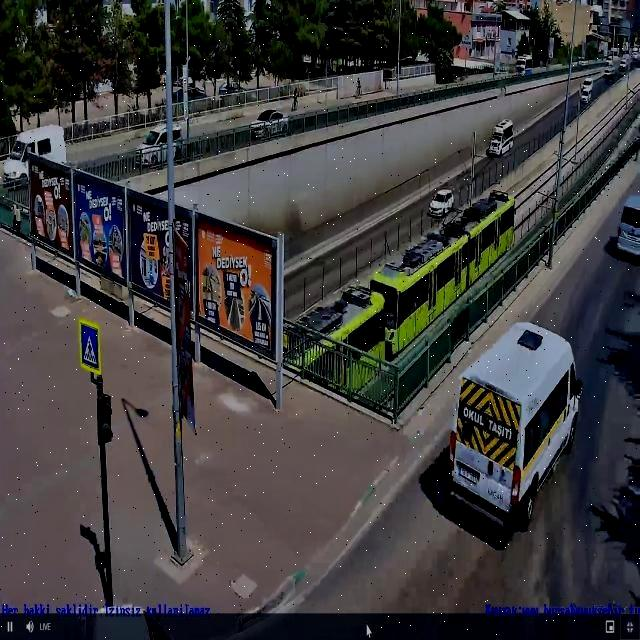Car: (137, 126, 185, 176), (427, 184, 461, 222), (250, 104, 287, 134)
Truck: (0, 119, 68, 196), (486, 115, 518, 161)
Van: (444, 316, 590, 524)
